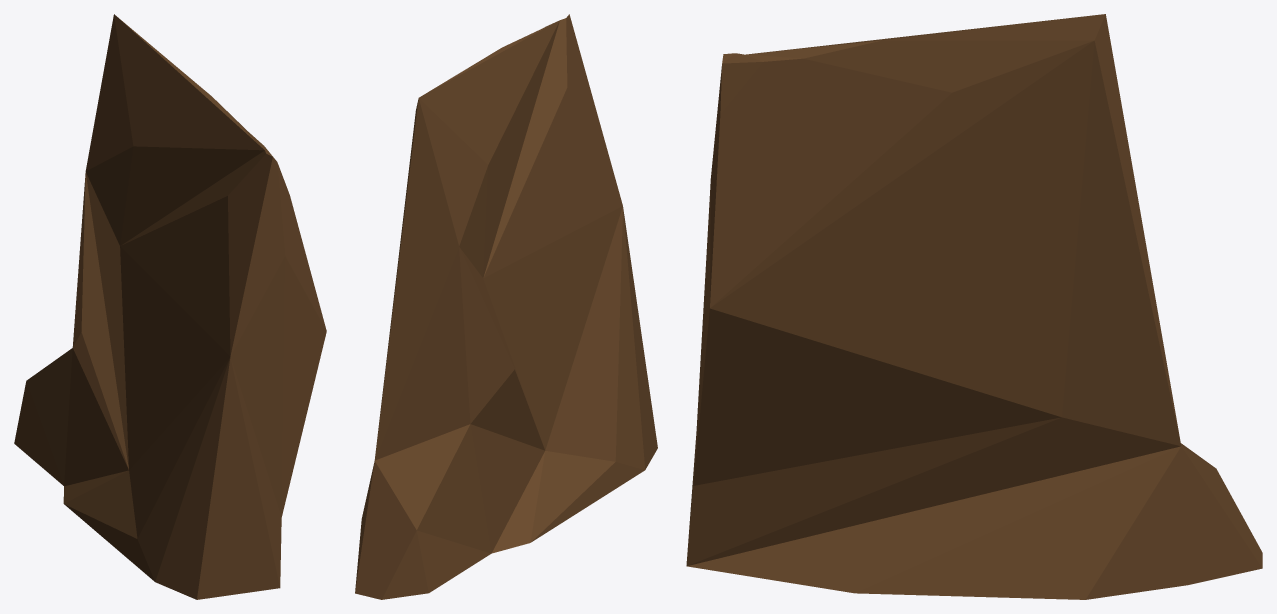
Rendered from Rock10.fbx.
3 renders of one model, left to right at view 1: azimuth 30°, elevation 25°; view 2: azimuth 150°, elevation 25°; view 3: azimuth 270°, elevation 25°, orthographic. The views are drawn at different scales.
Parts seen in each view (by area): view 1: Group1; view 2: Group1; view 3: Group1.
Part boxes in pixels (x1,y1,x2,y2): Group1: [14, 14, 326, 599]; Group1: [355, 14, 657, 599]; Group1: [686, 14, 1262, 599].
Bounding box in the file's own units: 4442 × 12079 × 11374.
